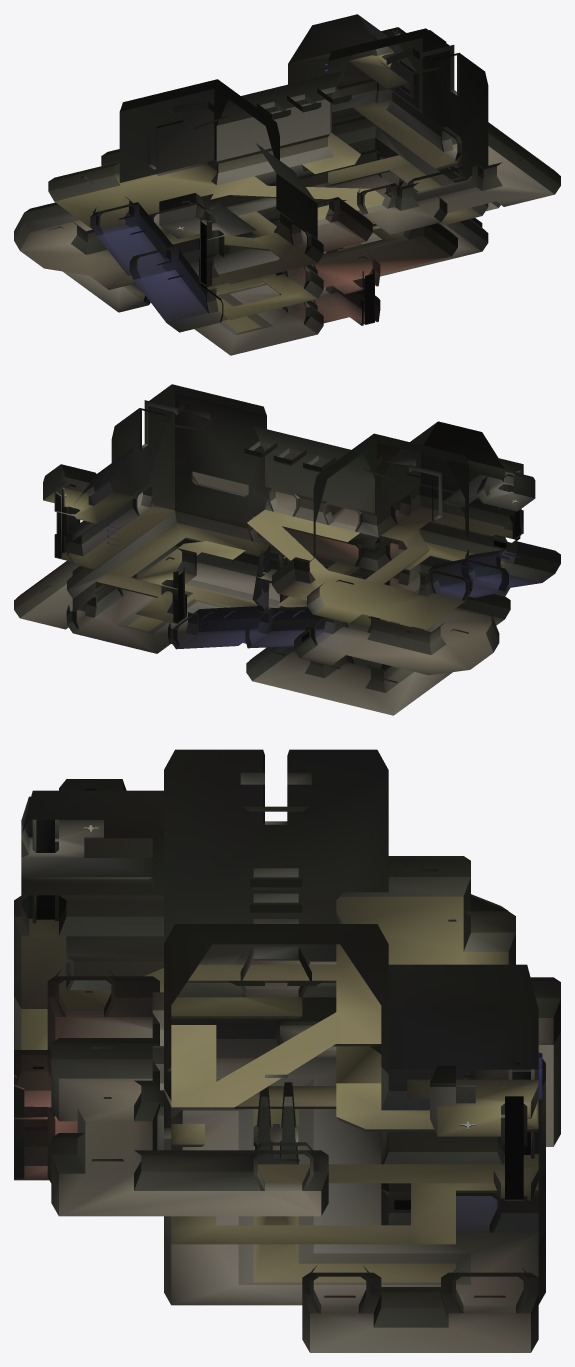
Rendered from PRS.glb.
3 renders of one model, top to bottom at view 1: azimuth 30°, elevation 25°; view 2: azimuth 150°, elevation 25°; view 3: azimuth 270°, elevation 25°, orthographic. The views are drawn at different scales.
Visible parts, largest first — view 1: PRS; view 2: PRS; view 3: PRS.
Part boxes in pixels (<box>): PRS: <box>14,14,560,355</box>; PRS: <box>14,384,560,715</box>; PRS: <box>14,749,560,1352</box>.
Bounding box in the file's own units: 71.93 × 28.16 × 44.5.
